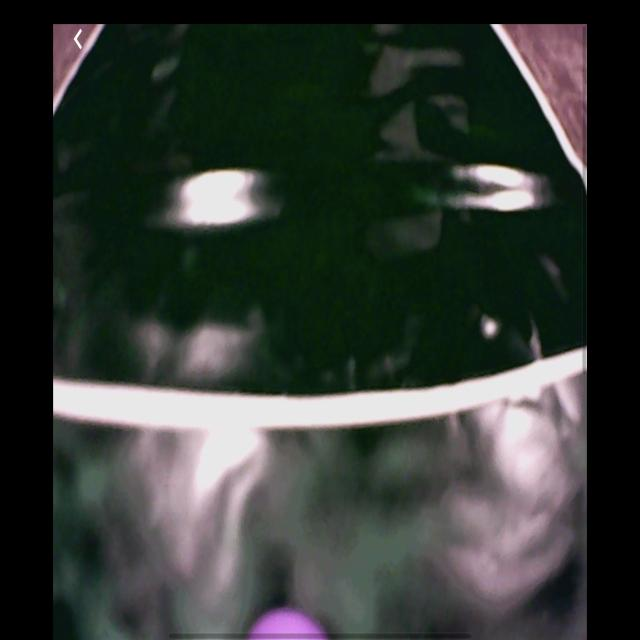ball: (247, 606, 330, 639)
